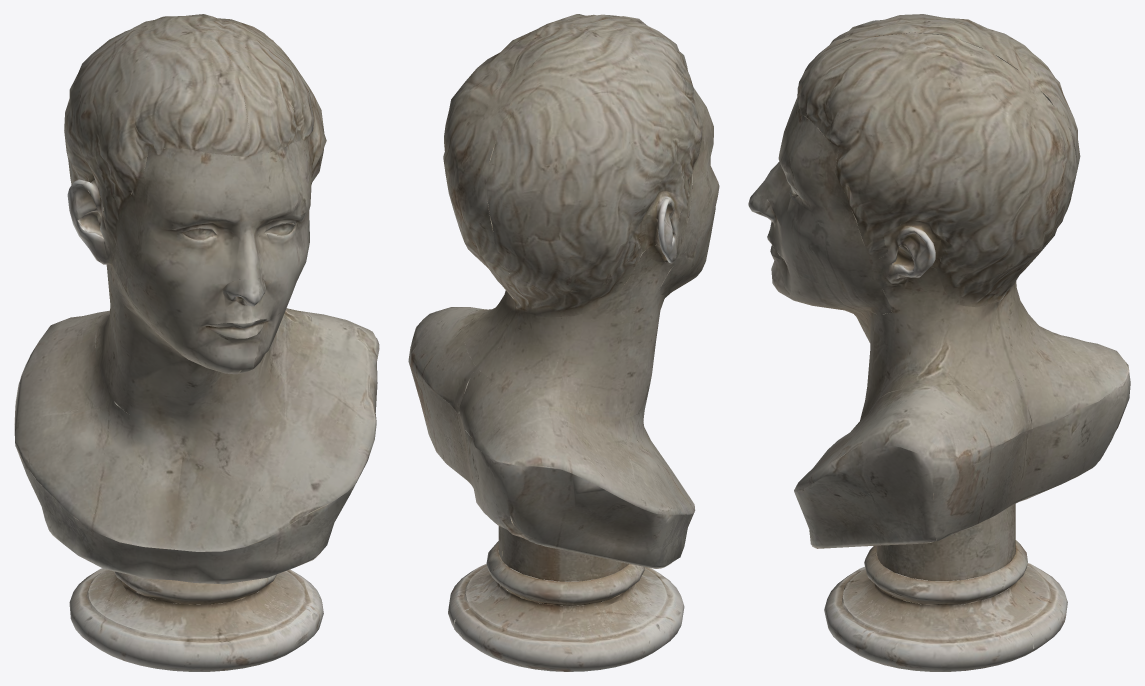
3 views of the same model, side by side, from view 1: azimuth 30°, elevation 25°; view 2: azimuth 150°, elevation 25°; view 3: azimuth 270°, elevation 25° (orthographic). The views are drawn at different scales.
Visible parts, largest first — view 1: marble_bust_01; view 2: marble_bust_01; view 3: marble_bust_01.
Boxes of the visible parts, x1,y1,x2,y2 form: marble_bust_01: (14, 14, 379, 671); marble_bust_01: (408, 14, 719, 671); marble_bust_01: (748, 14, 1130, 671).
Size of the model in its own units: 0.2716 by 0.5153 by 0.2998.
1 material, 1 textured.
